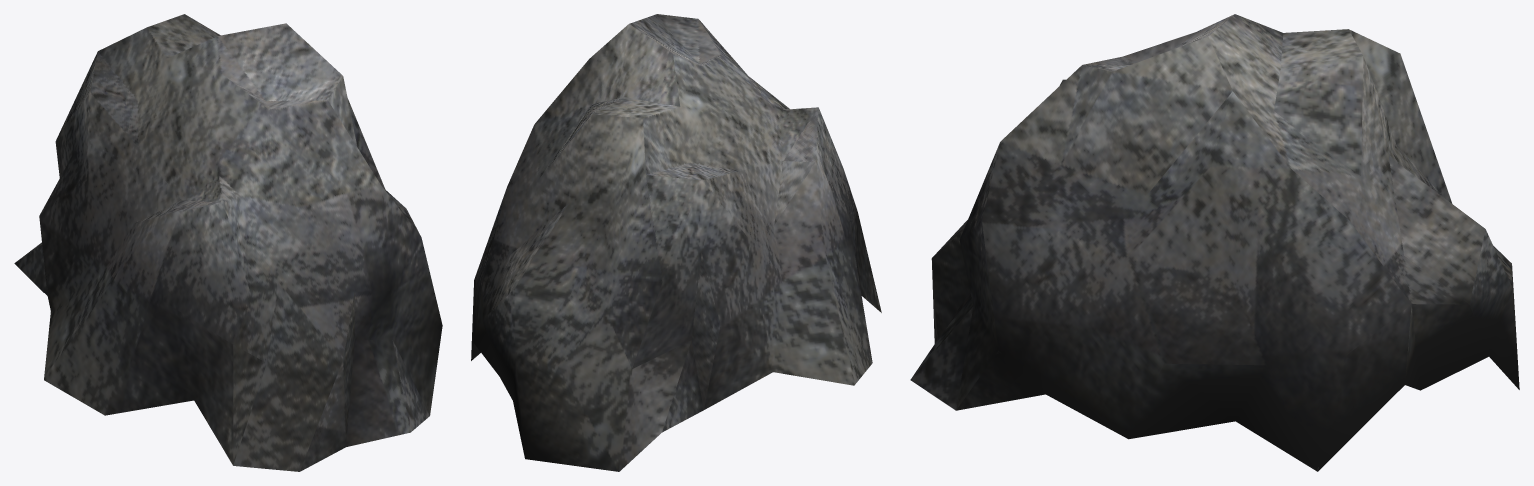
The model's file is big_rock_1.fbx.
3 renders of one model, left to right at view 1: azimuth 30°, elevation 25°; view 2: azimuth 150°, elevation 25°; view 3: azimuth 270°, elevation 25°, orthographic. The views are drawn at different scales.
Parts seen in each view (by area): view 1: big_rock_1; view 2: big_rock_1; view 3: big_rock_1.
Part boxes in pixels (x1,y1,x2,y2): big_rock_1: [14, 14, 442, 471]; big_rock_1: [471, 14, 881, 471]; big_rock_1: [910, 14, 1519, 471].
Bounding box in the file's own units: 0.6383 × 0.433 × 0.4738.
1 material, 1 textured.
